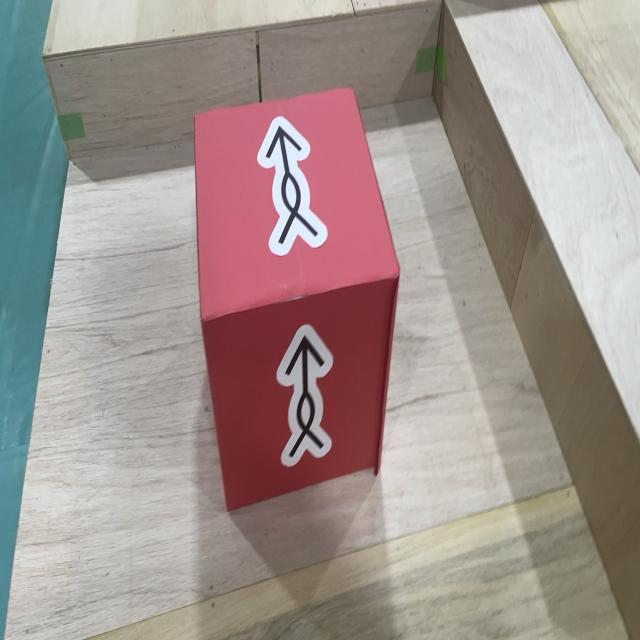12: (256, 116, 328, 257), (276, 322, 333, 467)
fighter: (194, 86, 401, 514)
